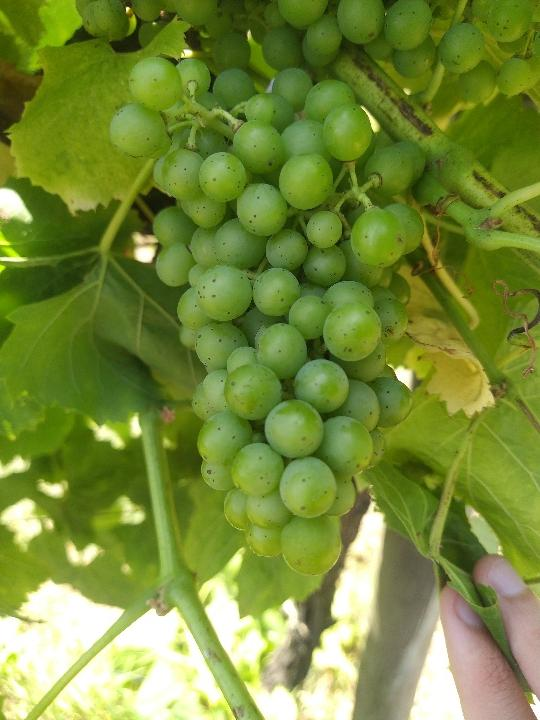grape: (105, 53, 428, 579)
